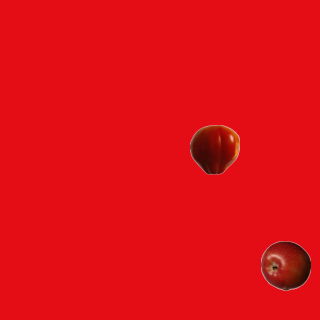Apple Braeburn: (260, 240, 310, 290)
Tomato 1: (189, 124, 239, 174)
